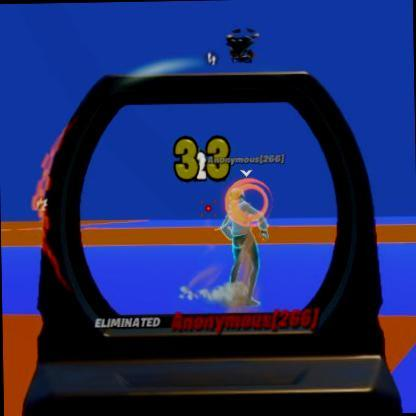person: (218, 188, 270, 307), (224, 26, 260, 63)
